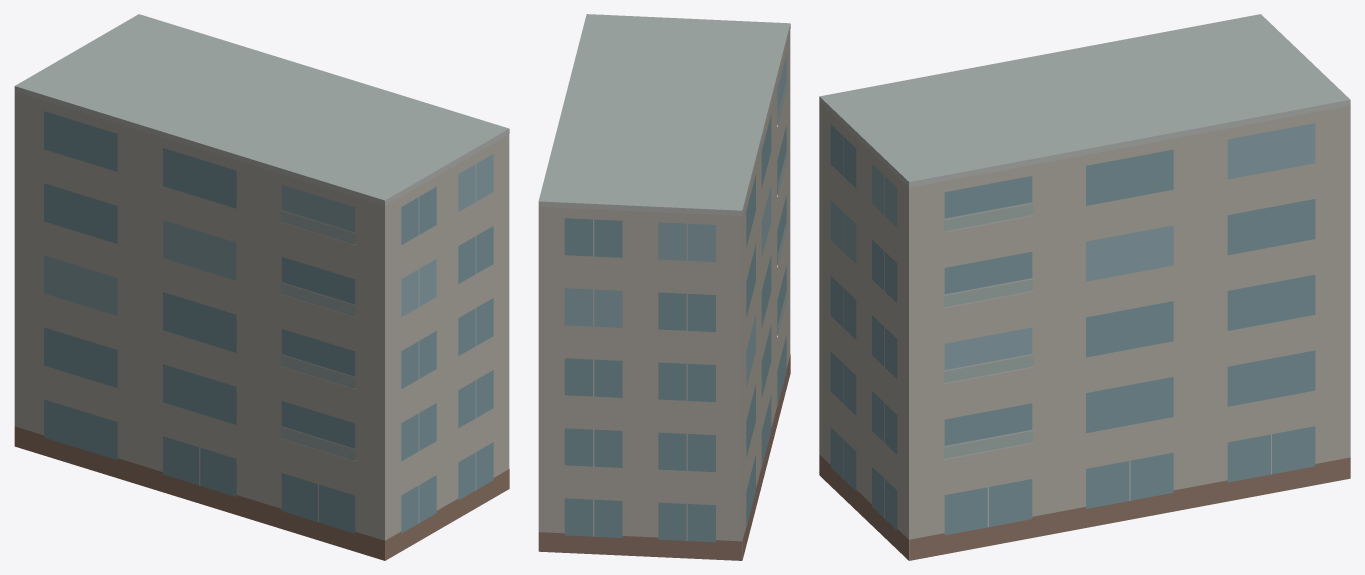
File: survey-upis-32677641.glb
The picture shows the model from 3 angles, left to right: view 1: azimuth 30°, elevation 25°; view 2: azimuth 150°, elevation 25°; view 3: azimuth 270°, elevation 25°; orthographic projection. The views are drawn at different scales.
Parts seen in each view (by area): view 1: survey-upis-32677641.tmp; view 2: survey-upis-32677641.tmp; view 3: survey-upis-32677641.tmp.
Boxes of the visible parts, bbox=[...] form: survey-upis-32677641.tmp: bbox=[14, 14, 509, 560]; survey-upis-32677641.tmp: bbox=[538, 14, 790, 560]; survey-upis-32677641.tmp: bbox=[819, 14, 1350, 560].
Bounding box in the file's own units: 15.13 × 15.9 × 20.22.
